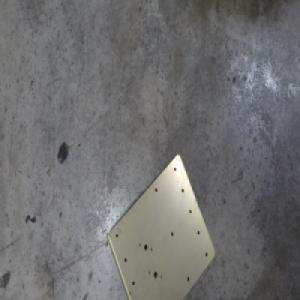MetalSheet: (105, 151, 216, 300)
